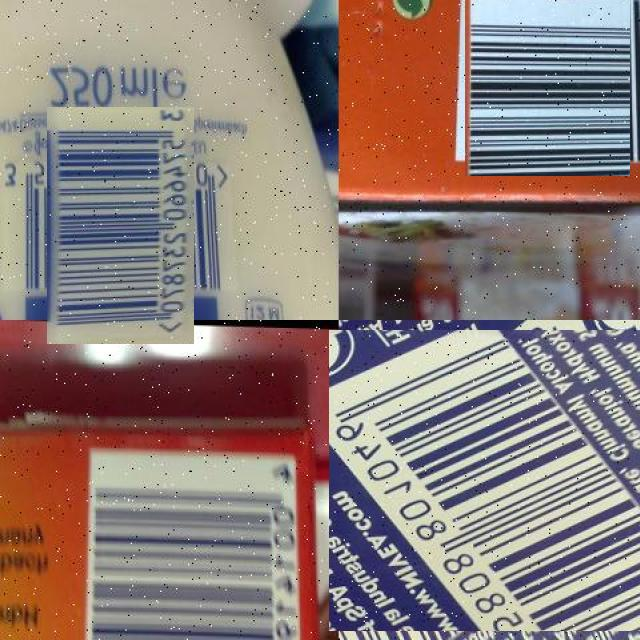Barcode: (333, 324, 640, 635), (80, 438, 308, 640), (24, 130, 217, 322), (459, 0, 635, 171)
